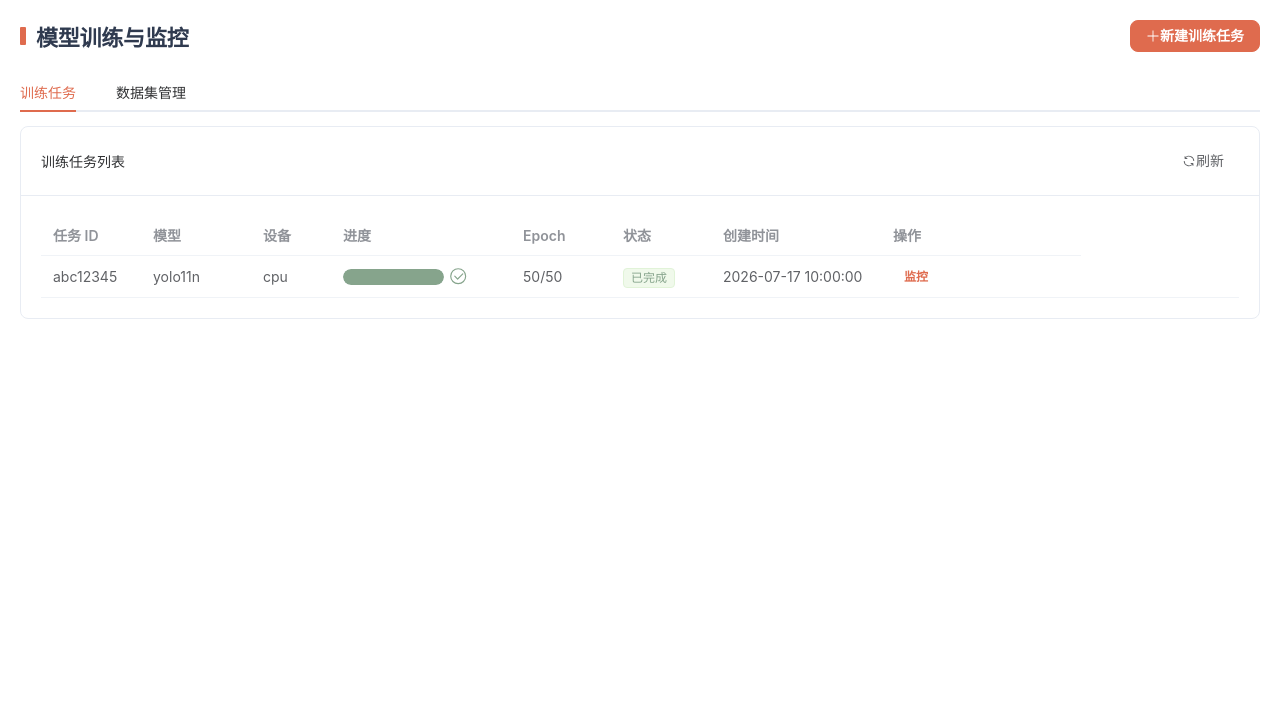
Test case: TrainingPage 异步模型评估 › 评估条件完全匹配时直接展示缓存报告且不启动轮询
Click the button "监控": (916, 277) [893, 265, 939, 289]
(page scrolled)
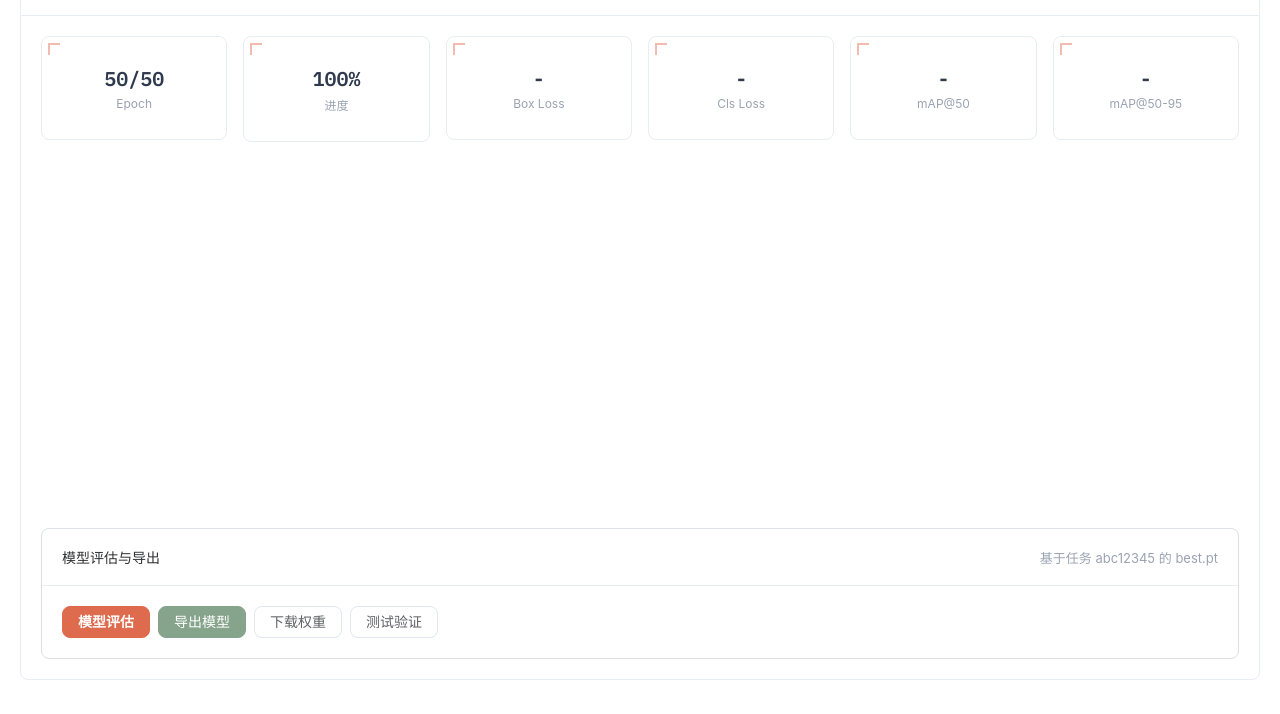
Click the button "模型评估": (106, 622) [62, 606, 150, 638]
Wait 10000 ms
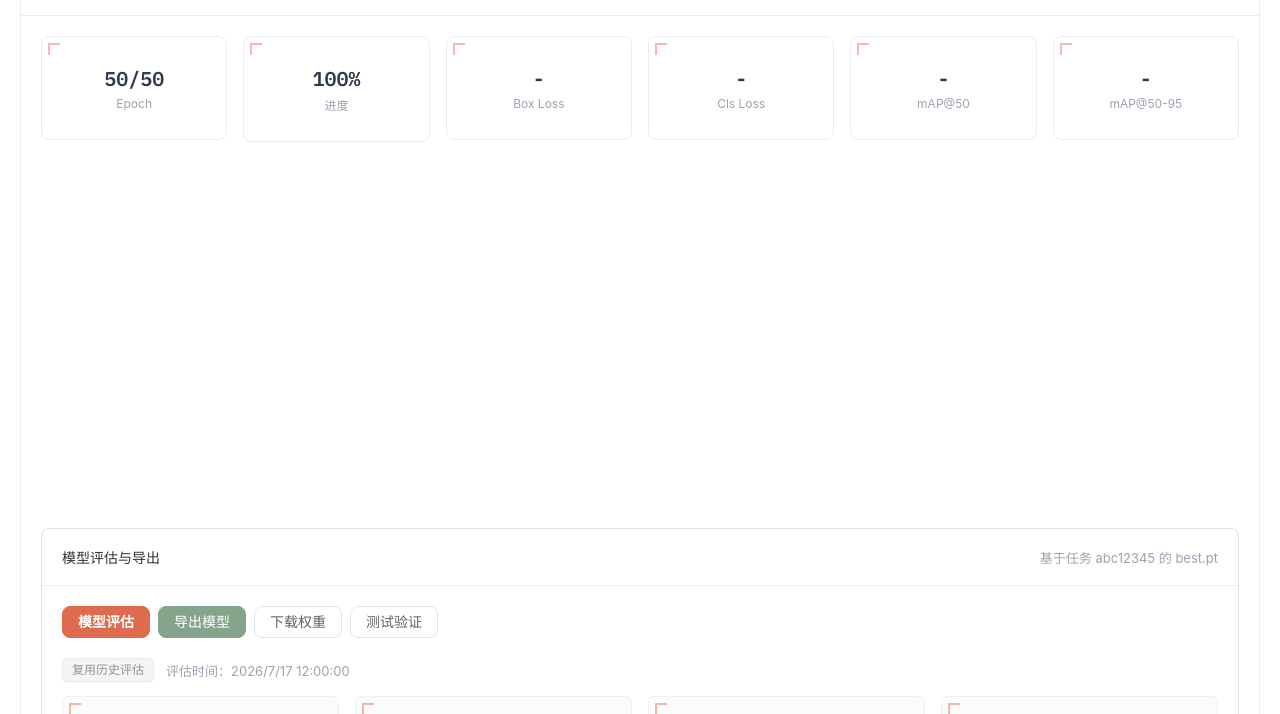
Now the text "复用历史评估" is shown, box [72, 664, 144, 676]
